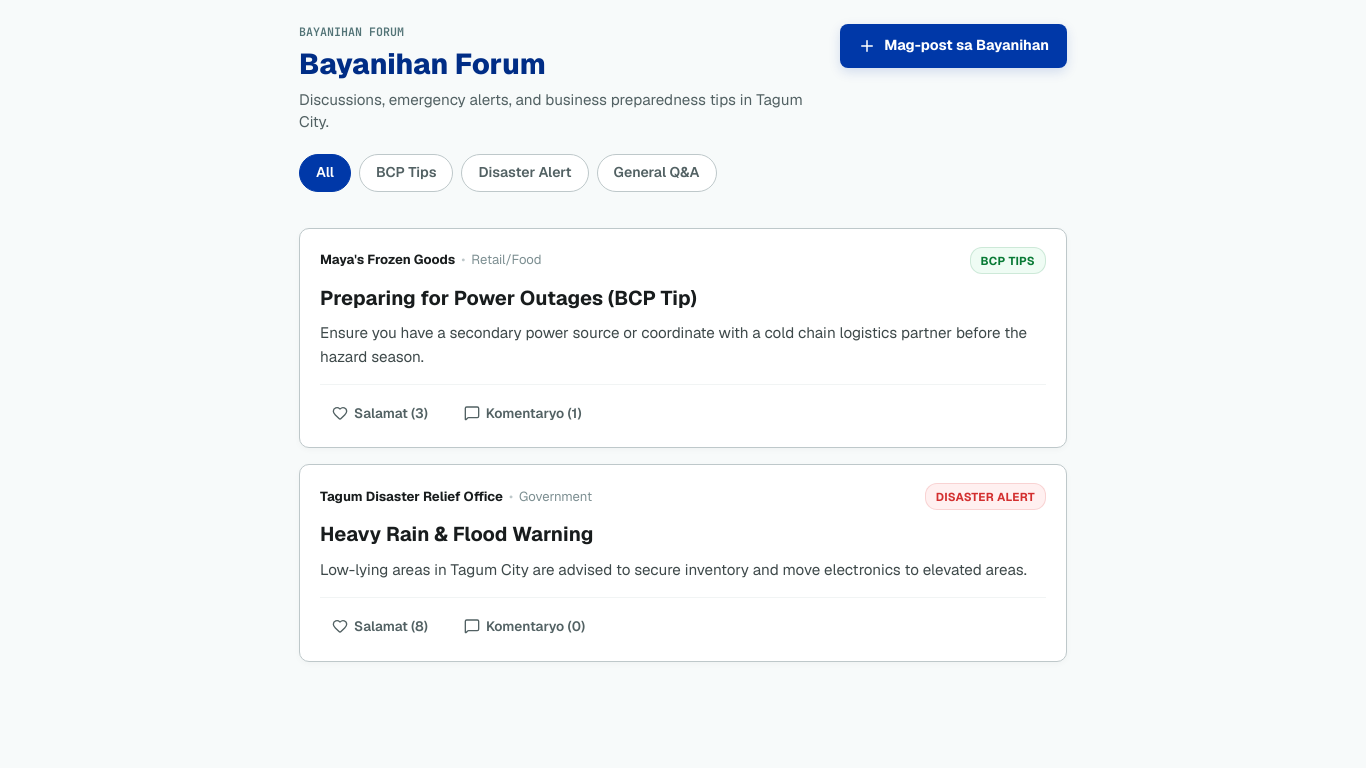
Scenario: Bayanihan Screen UI Tests › opens the post form modal and submits a new post
# Open write post popup
Click the button "Mag-post sa Bayanihan". click: (954, 46)
box: [840,24,1067,68]
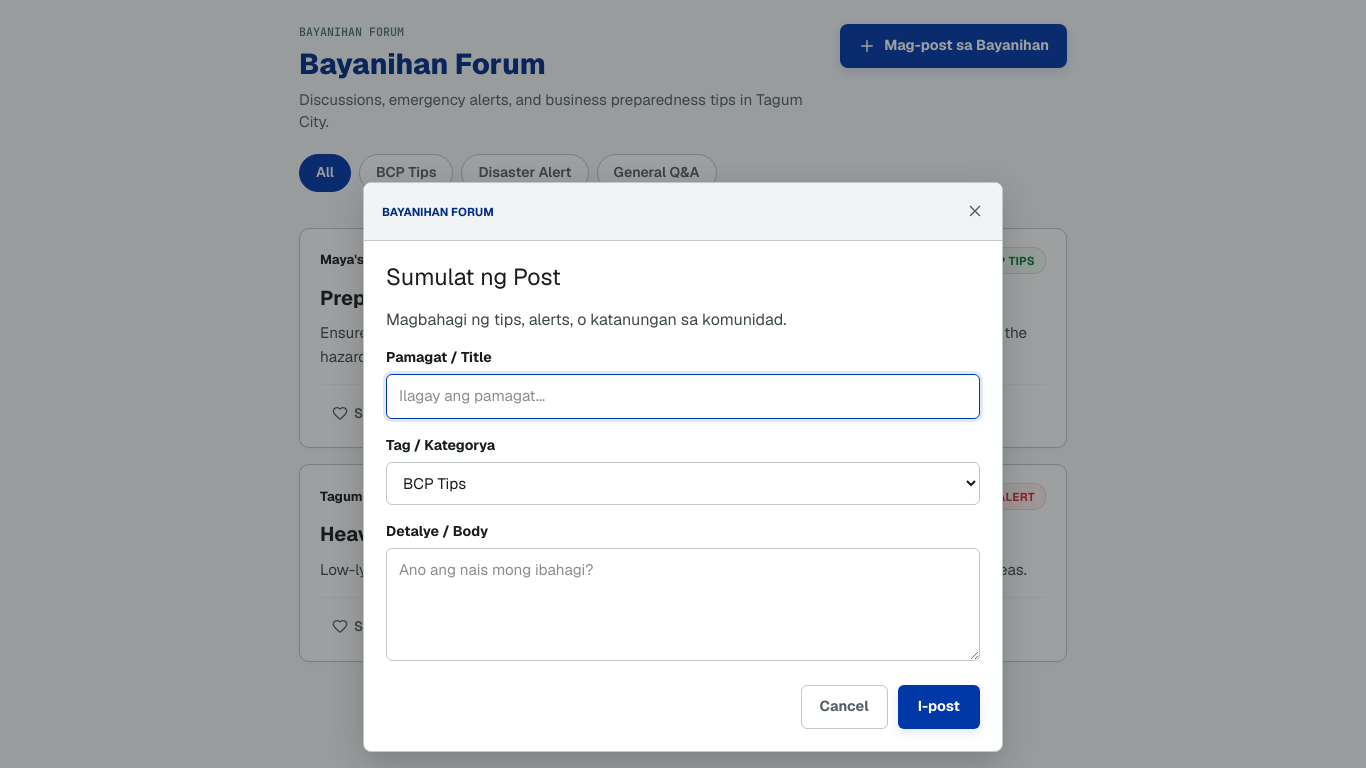
Expected: the dialog "Sumulat ng Post" is shown, [363,182,1003,752]
Type "Test Title" into the field labelled "Pamagat / Title". click: (683, 396)
box: [386,374,980,419]
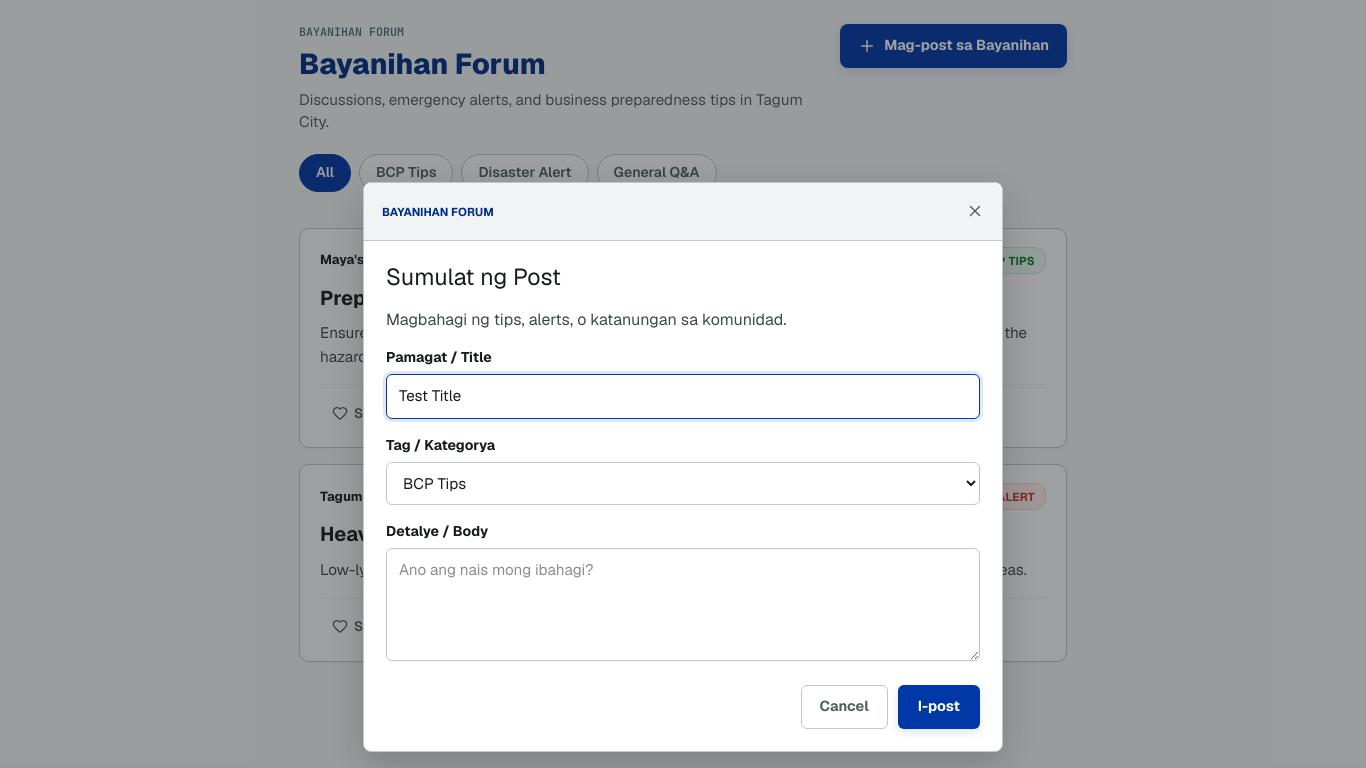
Select "General Q&A" in the dropdown labelled "Tag / Kategorya". click: (683, 483)
box: [386,462,980,505]
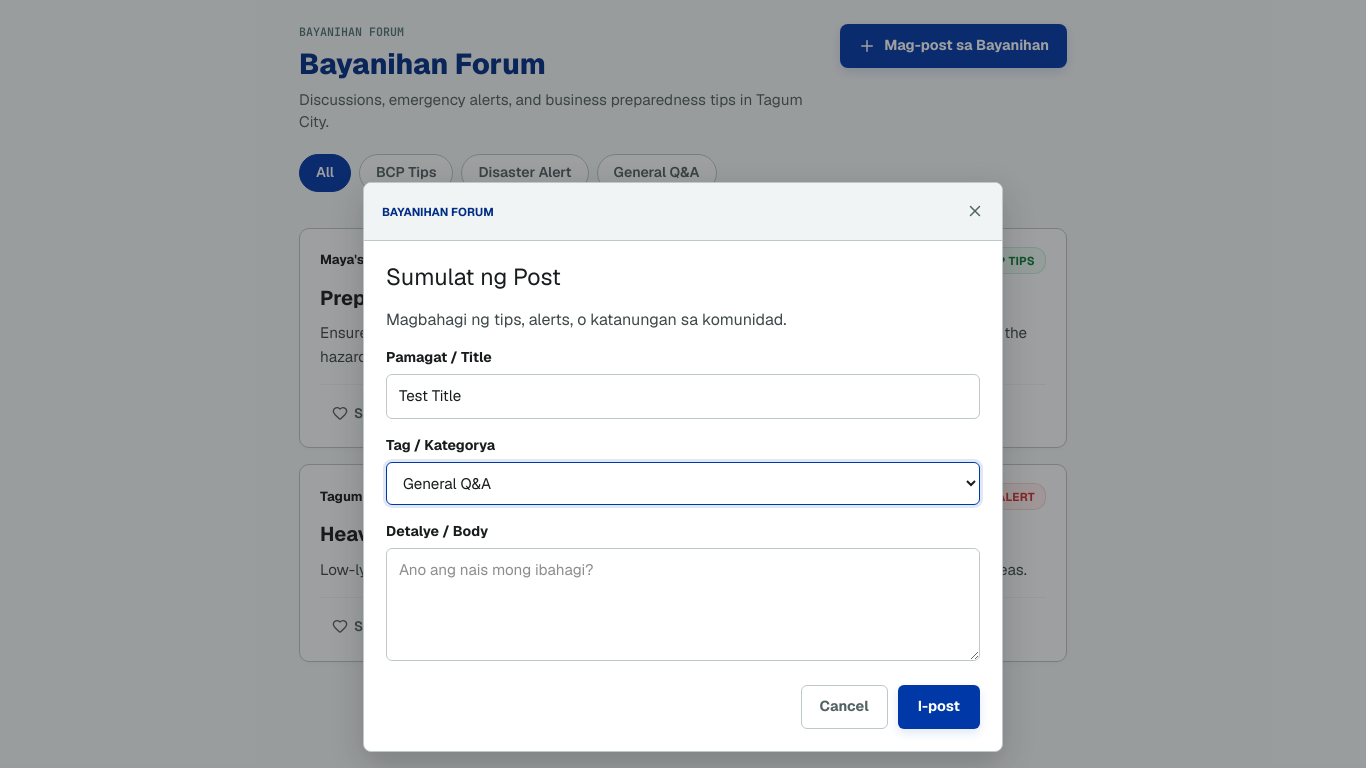
Type "Test post body contents." into the text box labelled "Detalye / Body". click: (683, 604)
box: [386,548,980,661]
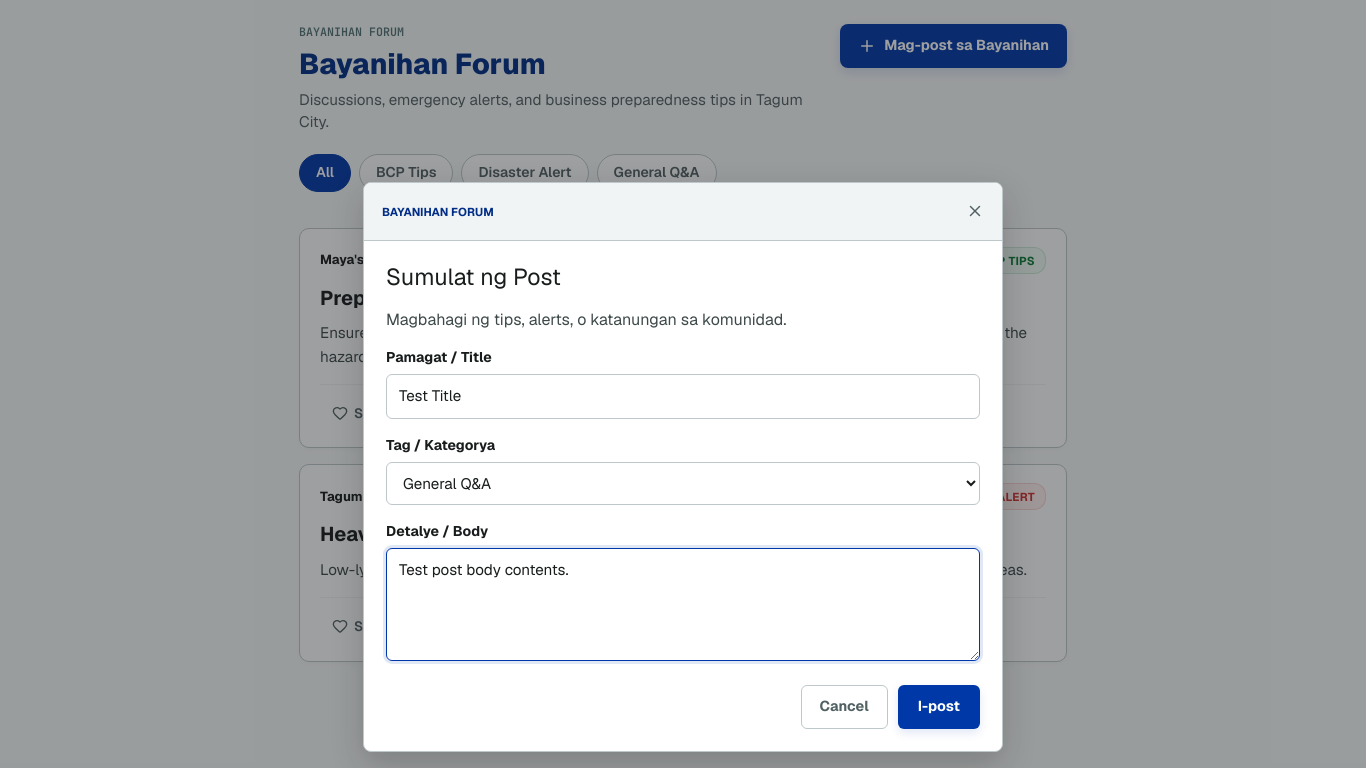
Click the button "I-post". click: (939, 707)
box: [898,685,980,729]
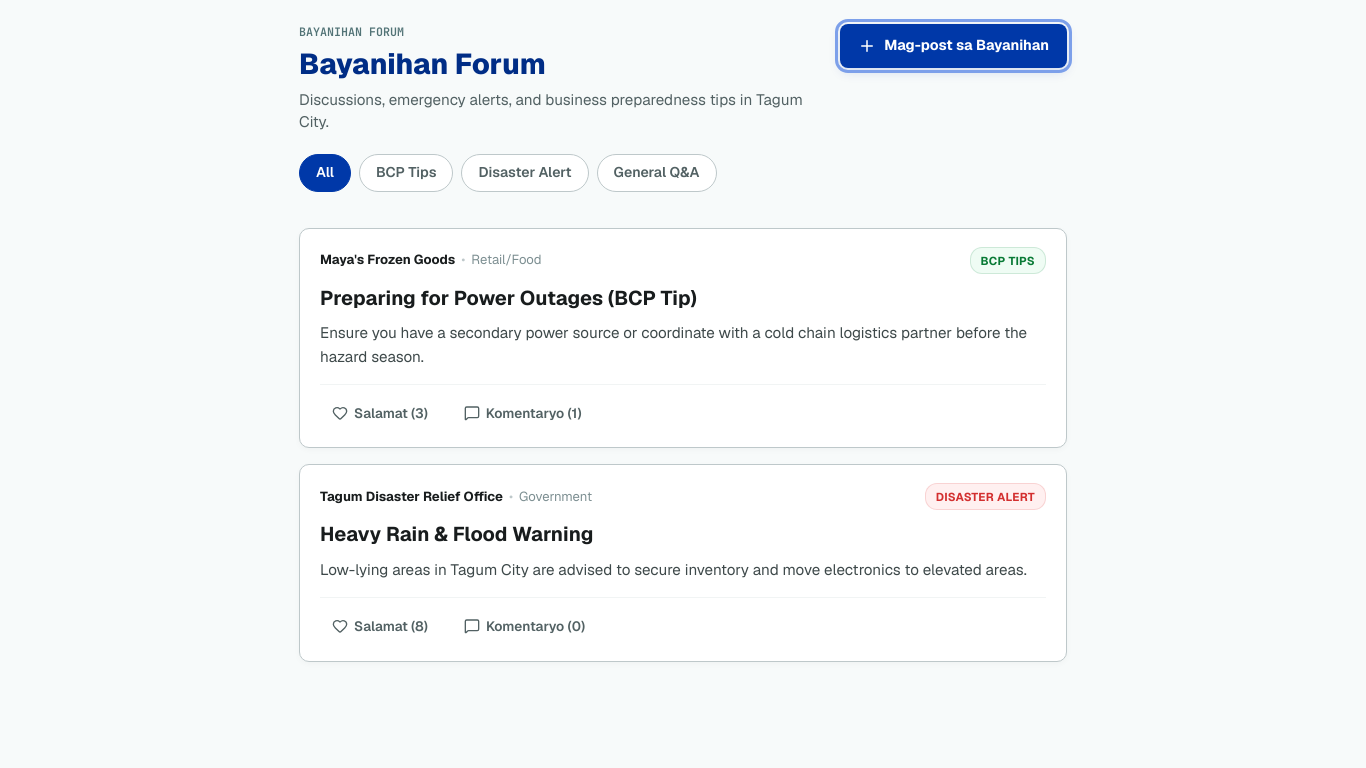
Expected: the heading "Sumulat ng Post" is gone
